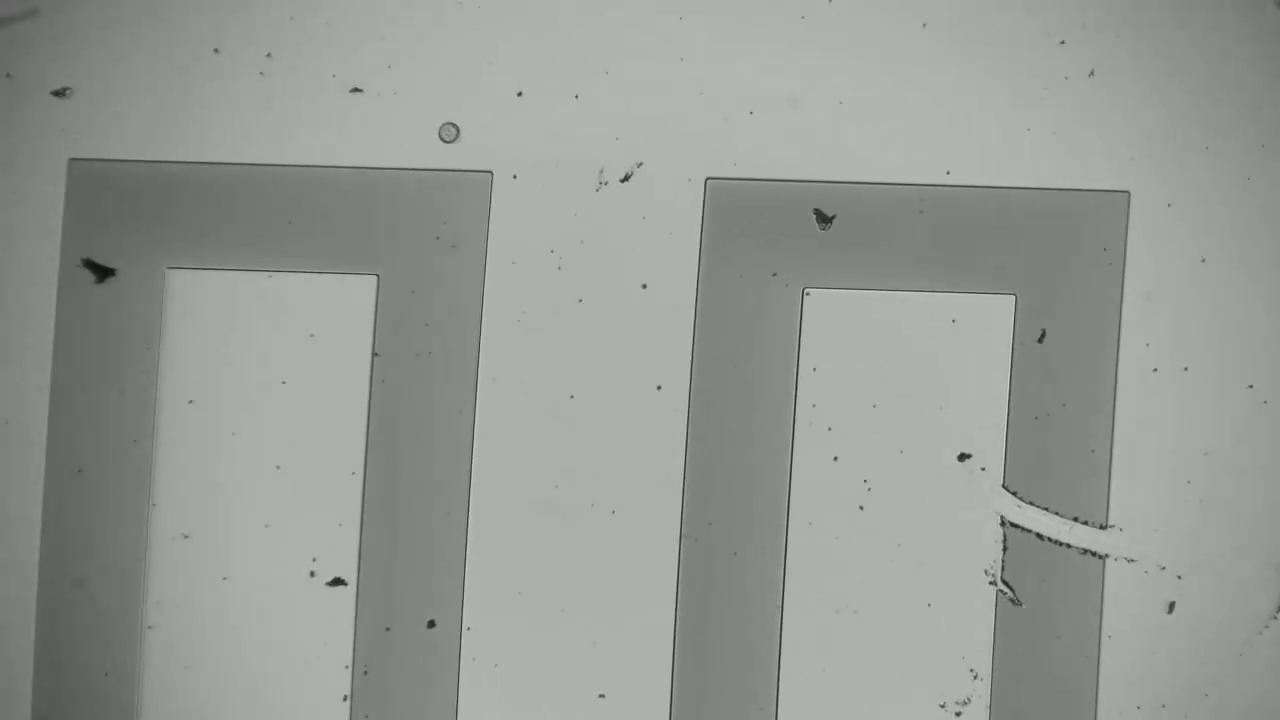Short_circuit: (969, 453, 1141, 579)
